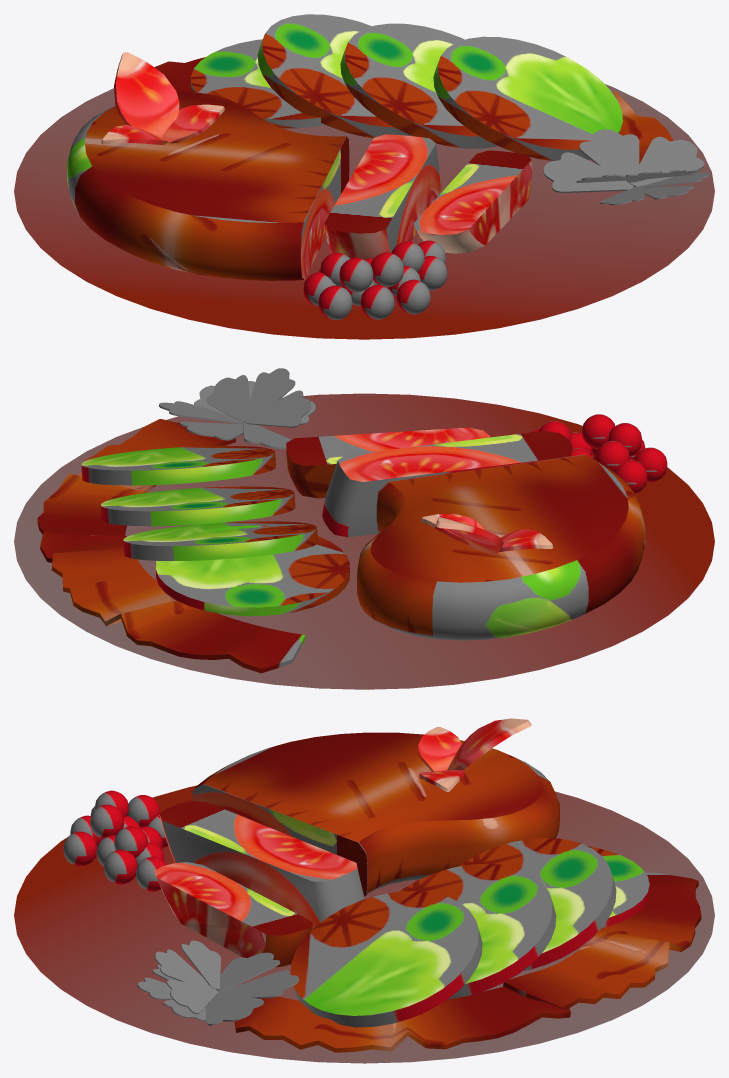
Rendered from 1_5_steak.fbx.
3 views of the same model, one above another, from view 1: azimuth 30°, elevation 25°; view 2: azimuth 150°, elevation 25°; view 3: azimuth 270°, elevation 25° (orthographic).
Parts seen in each view (by area): view 1: Circle.059; view 2: Circle.059; view 3: Circle.059.
Part boxes in pixels (x1,y1,x2,y2): Circle.059: [14, 14, 714, 339]; Circle.059: [14, 368, 714, 689]; Circle.059: [14, 718, 714, 1063].
Bounding box in the file's own units: 5.06 × 0.9386 × 5.06.
